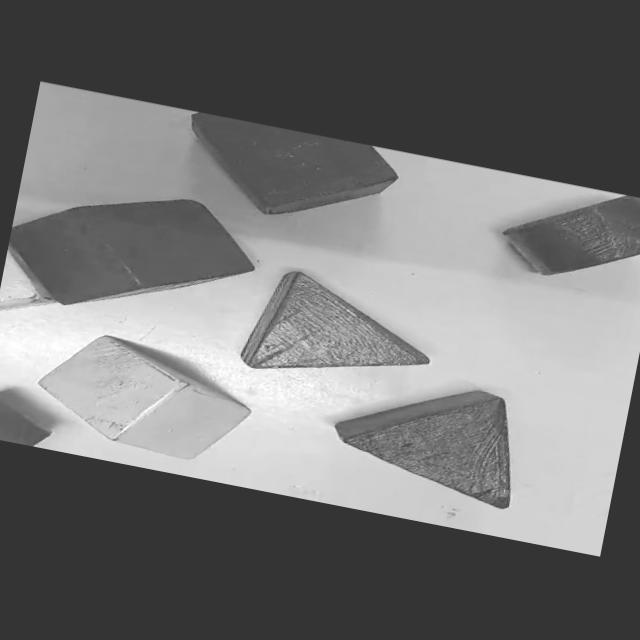bcircle: (502, 195, 639, 274)
bcube: (191, 112, 397, 214)
btriangle: (336, 391, 511, 509)
rcube: (9, 198, 254, 303)
rtriangle: (10, 198, 254, 303), (242, 272, 430, 369)
ytriangle: (40, 337, 251, 460)
